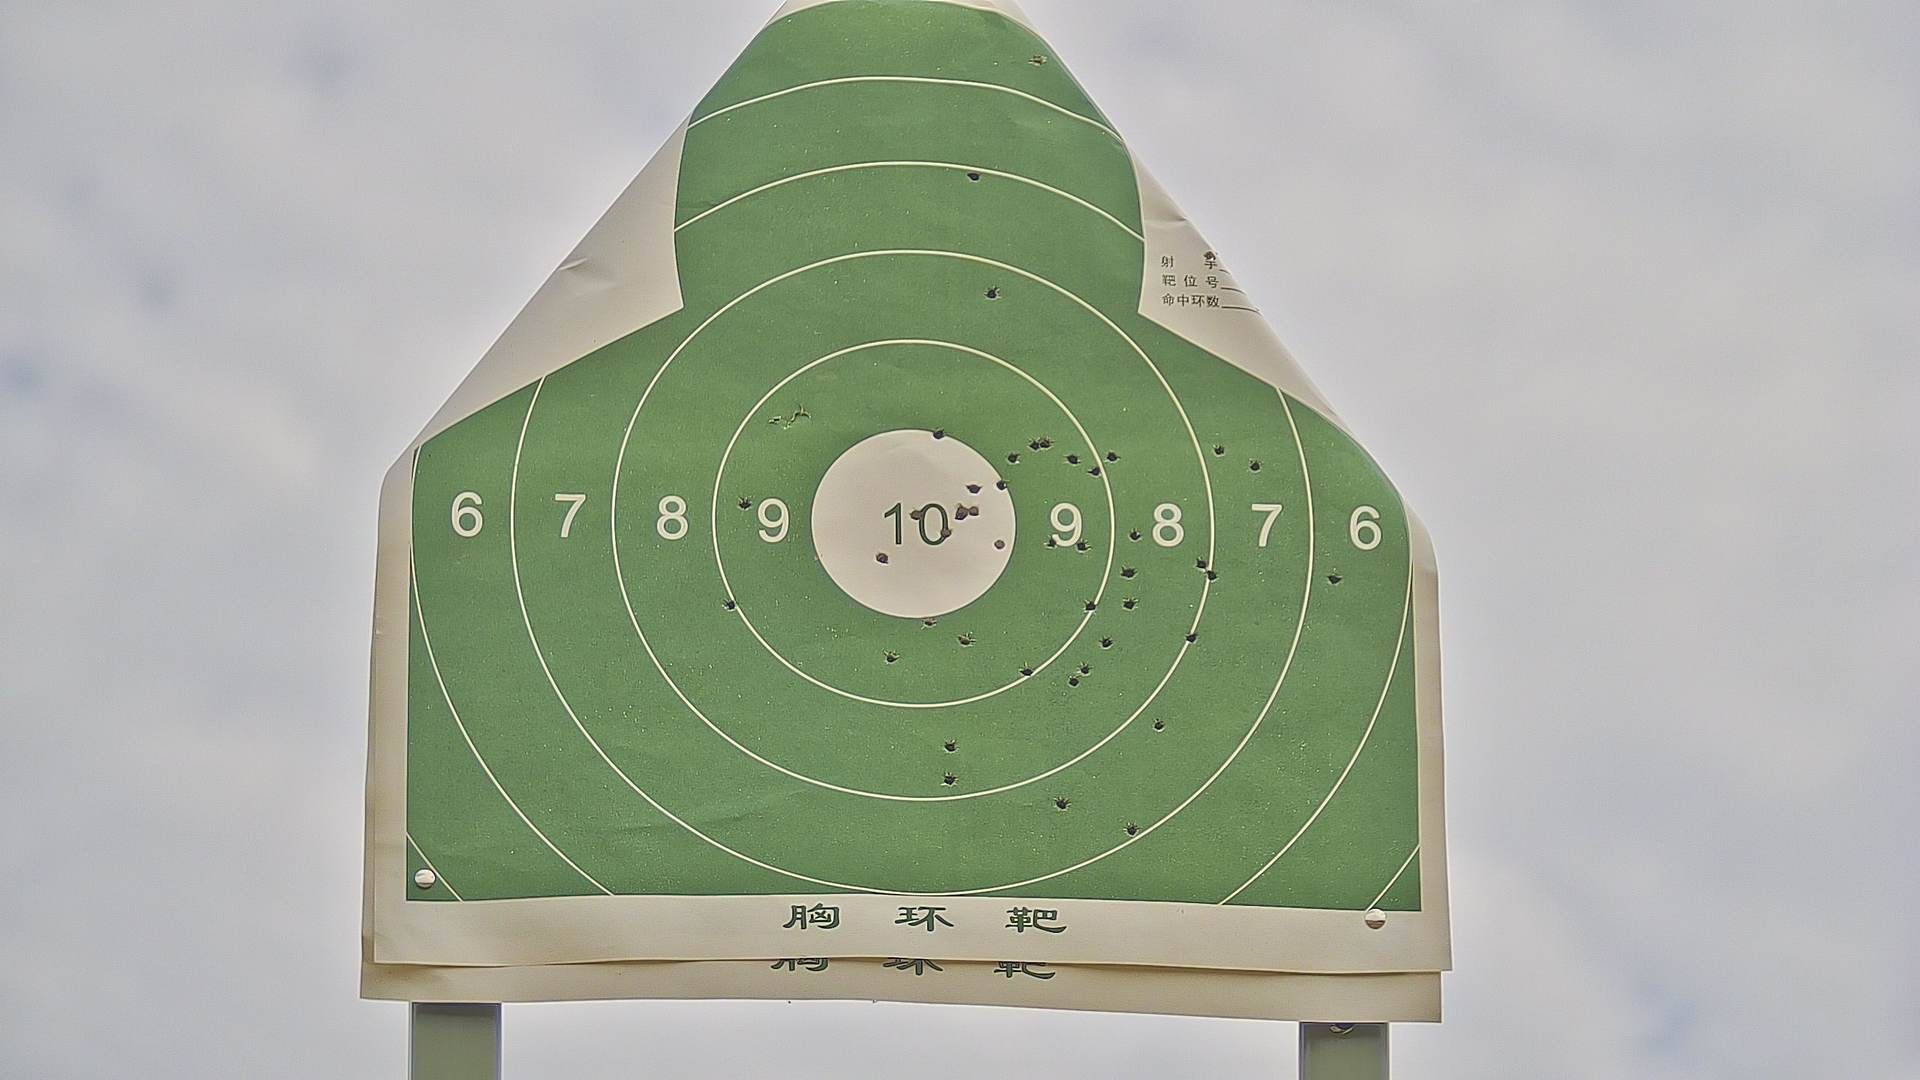hole: (965, 502, 986, 530), (732, 492, 756, 516), (1208, 436, 1229, 462), (938, 769, 961, 790), (963, 164, 982, 189), (1050, 794, 1073, 814), (1116, 563, 1141, 582), (952, 498, 968, 527), (982, 281, 1004, 302), (956, 632, 978, 651), (939, 736, 961, 756), (1102, 444, 1122, 465), (960, 477, 984, 495), (880, 647, 903, 665), (1097, 629, 1114, 653), (1075, 533, 1091, 558), (1029, 50, 1048, 70), (1246, 455, 1265, 476), (1325, 568, 1344, 589), (1038, 429, 1050, 460), (1121, 822, 1145, 837), (1081, 597, 1101, 616), (1079, 658, 1098, 676), (1129, 522, 1143, 547), (723, 600, 744, 617), (1121, 595, 1142, 612), (1015, 661, 1036, 678), (1153, 713, 1170, 735), (1182, 629, 1201, 646), (1065, 444, 1077, 472), (874, 549, 893, 564), (1088, 463, 1106, 479), (920, 615, 939, 630), (938, 524, 953, 541), (996, 477, 1011, 495), (1191, 555, 1208, 571), (1208, 566, 1222, 584), (1044, 531, 1058, 551), (906, 506, 924, 520), (1067, 671, 1080, 690), (930, 426, 945, 440), (1025, 433, 1033, 462), (992, 535, 1006, 551), (1007, 451, 1021, 467)
kernel: (911, 522, 920, 534)
target: (405, 5, 1423, 911)
ten: (812, 427, 1017, 616)
